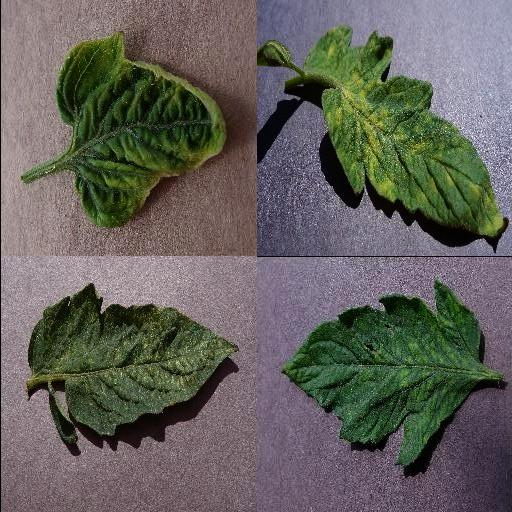Leaf Mold: (305, 27, 507, 239)
Mosaic Virus: (278, 281, 482, 467)
Spider Mites: (26, 283, 238, 437)
Yellow Leaf Curl Virus: (55, 29, 227, 227)
